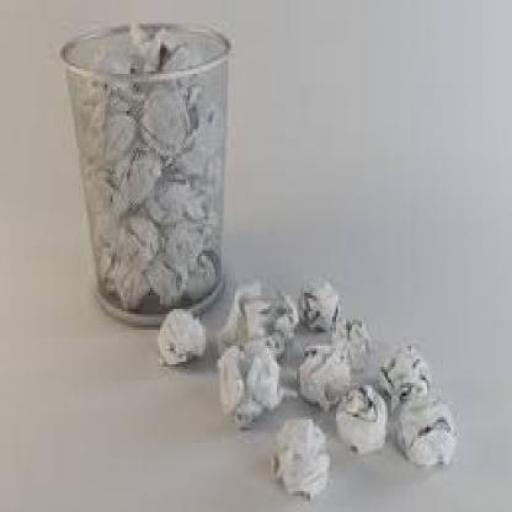paper: (218, 278, 294, 361), (216, 338, 280, 428), (269, 417, 328, 501), (393, 393, 457, 467), (332, 382, 386, 462), (136, 79, 190, 156), (295, 340, 350, 404), (377, 340, 429, 407), (156, 303, 206, 365), (297, 269, 342, 330), (187, 82, 222, 153), (330, 308, 370, 370), (118, 214, 156, 272), (87, 42, 126, 96), (156, 212, 198, 261), (109, 259, 148, 308), (122, 153, 156, 206), (125, 22, 164, 64), (103, 105, 132, 158), (152, 166, 182, 214), (148, 259, 182, 301), (93, 206, 125, 248), (86, 164, 112, 214), (182, 246, 212, 288), (190, 180, 217, 222), (96, 248, 122, 290)
